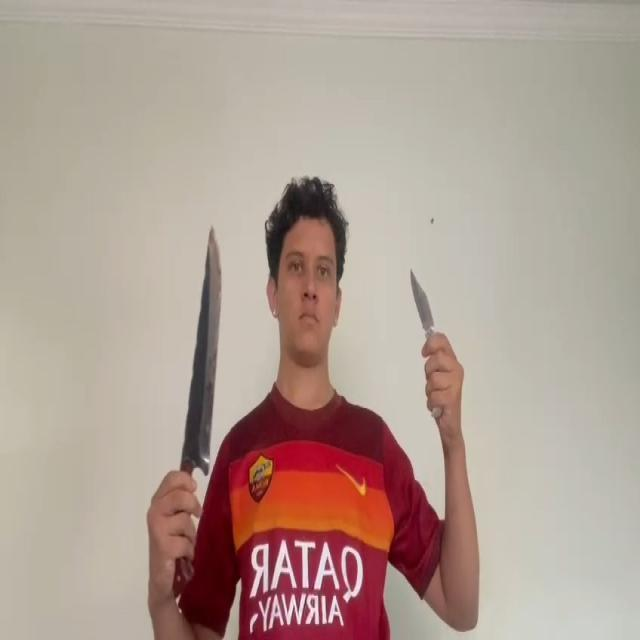knife: (184, 222, 224, 467), (409, 270, 434, 330)
